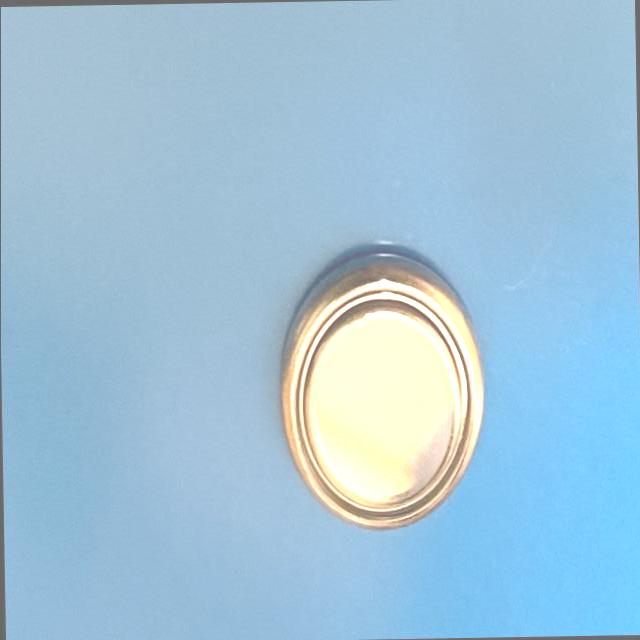COIN: (274, 253, 489, 530)
